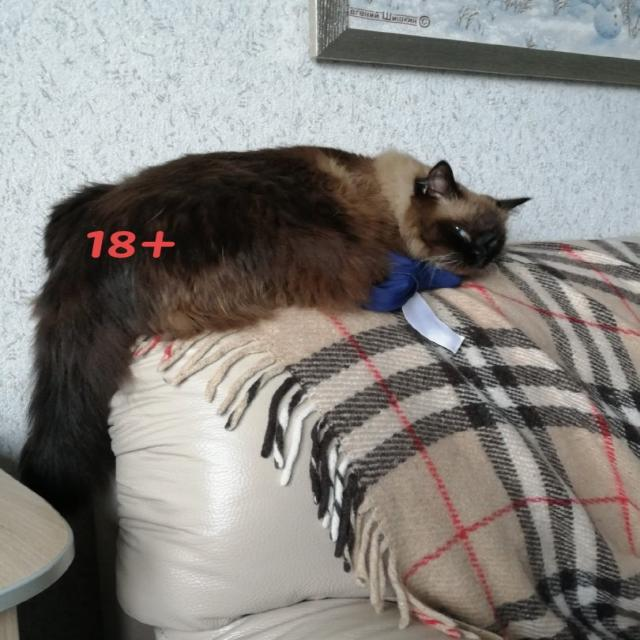cat: (48, 136, 561, 332)
